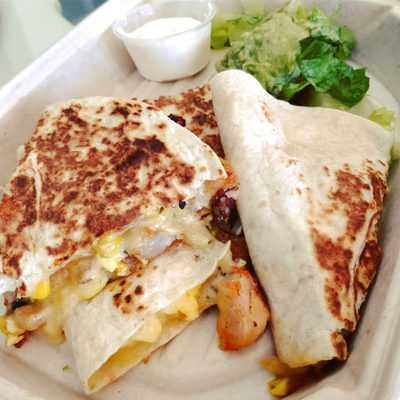curry: (215, 2, 370, 108)
soup: (207, 70, 394, 382)
sushi: (111, 0, 217, 83)
